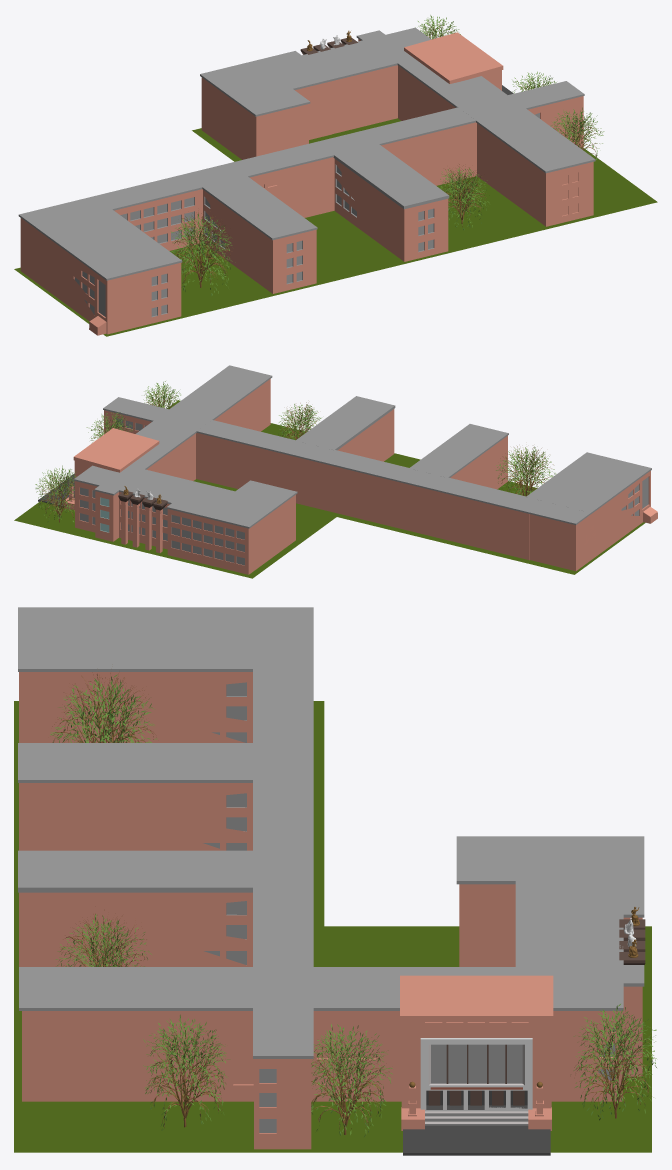
File: ngu78767.fbx
3 views of the same model, one above another, from view 1: azimuth 30°, elevation 25°; view 2: azimuth 150°, elevation 25°; view 3: azimuth 270°, elevation 25° (orthographic). The views are drawn at different scales.
Visible parts, largest first — view 1: Меш; view 2: Меш; view 3: Меш.
Part boxes in pixels (x1=…): Меш: x1=14, y1=15, x2=657, y2=336; Меш: x1=14, y1=365, x2=657, y2=578; Меш: x1=14, y1=607, x2=656, y2=1155.
Size of the model in its own units: 26394 by 3835 by 15634.
